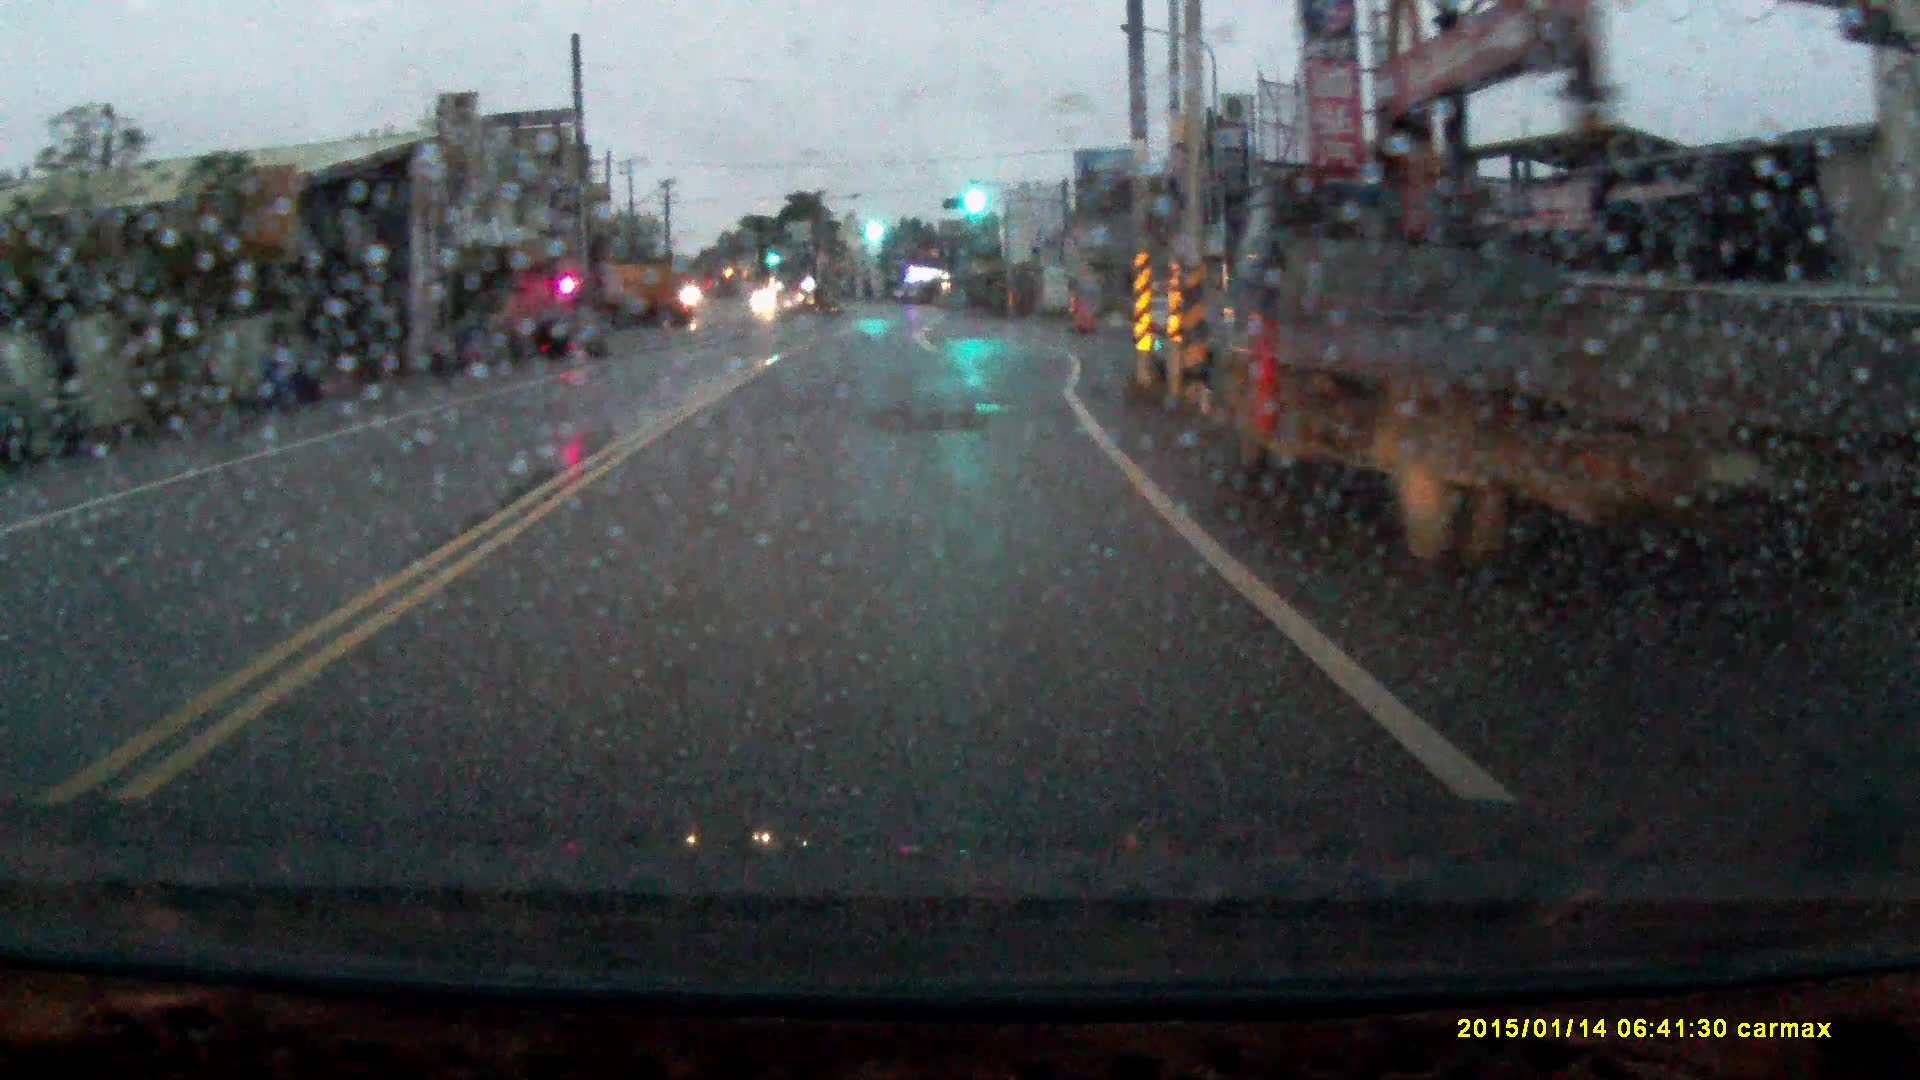vehicle: (1201, 193, 1894, 608), (583, 256, 684, 330), (533, 307, 611, 357)
